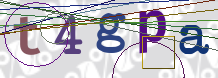4: (54, 14, 83, 54)
a: (178, 24, 208, 54)
g: (95, 12, 125, 52)
p: (139, 9, 166, 53)
t: (13, 16, 40, 55)
